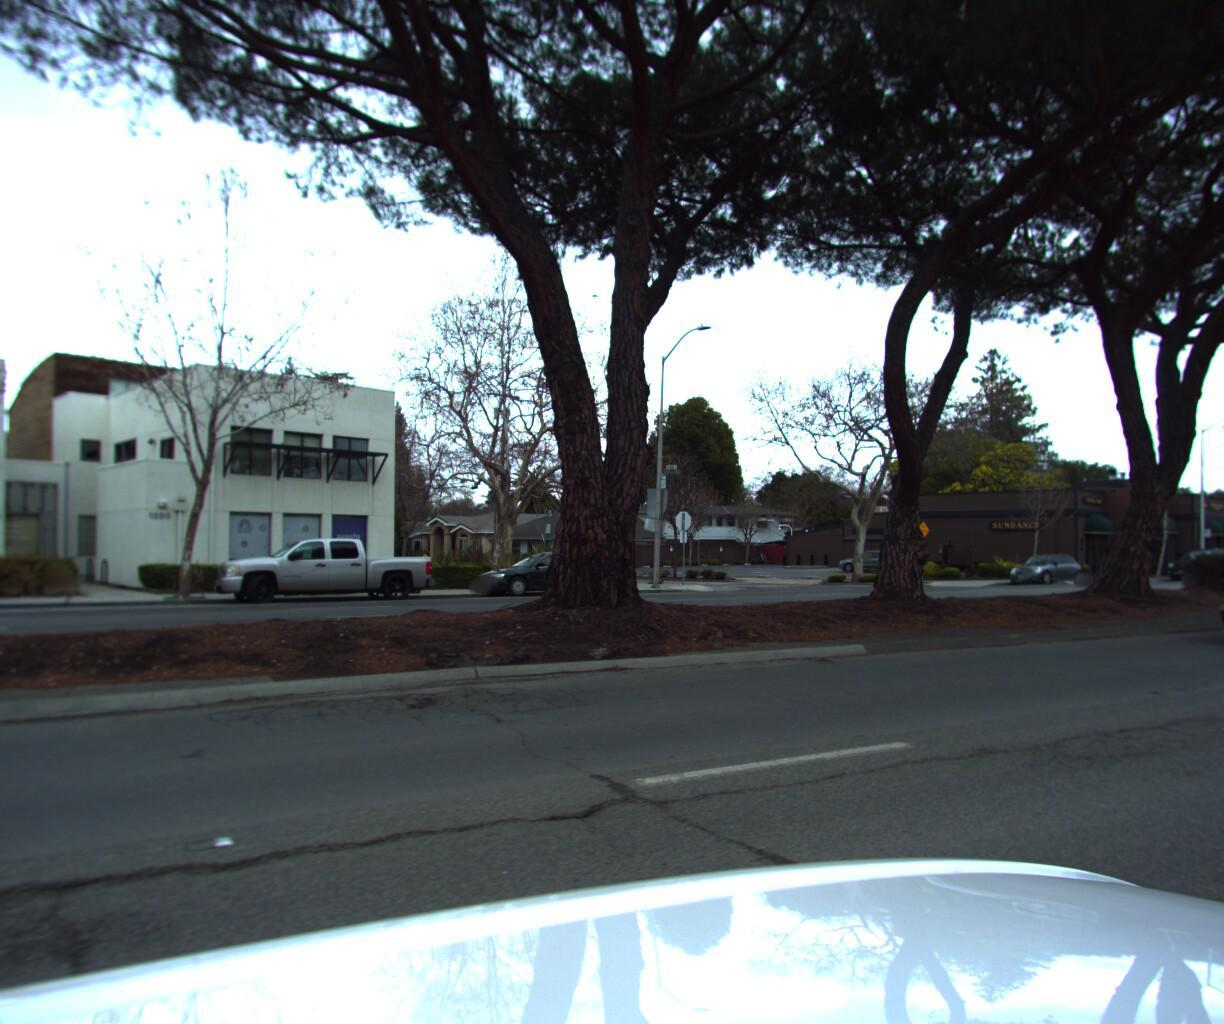car: (209, 535, 437, 611), (466, 548, 624, 601), (998, 550, 1084, 585), (1208, 555, 1224, 662)
